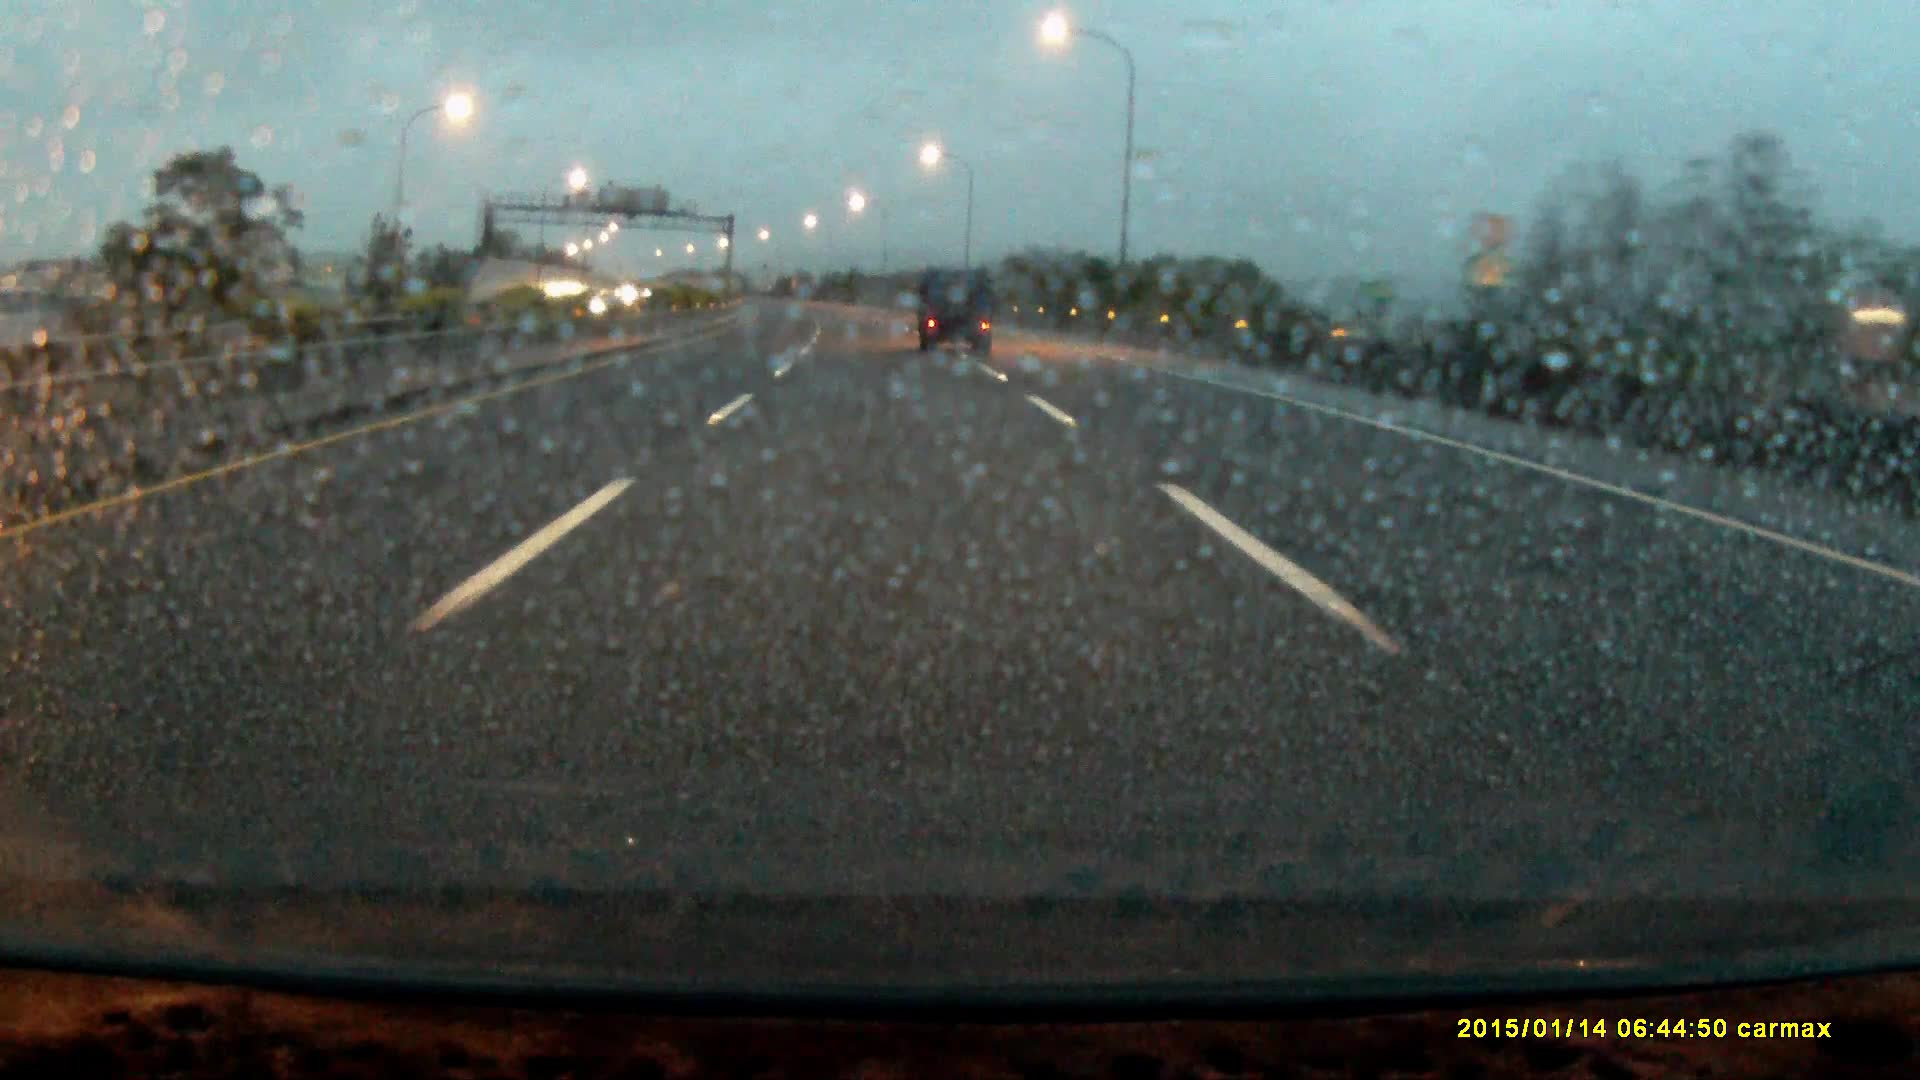vehicle: (916, 272, 997, 356)
